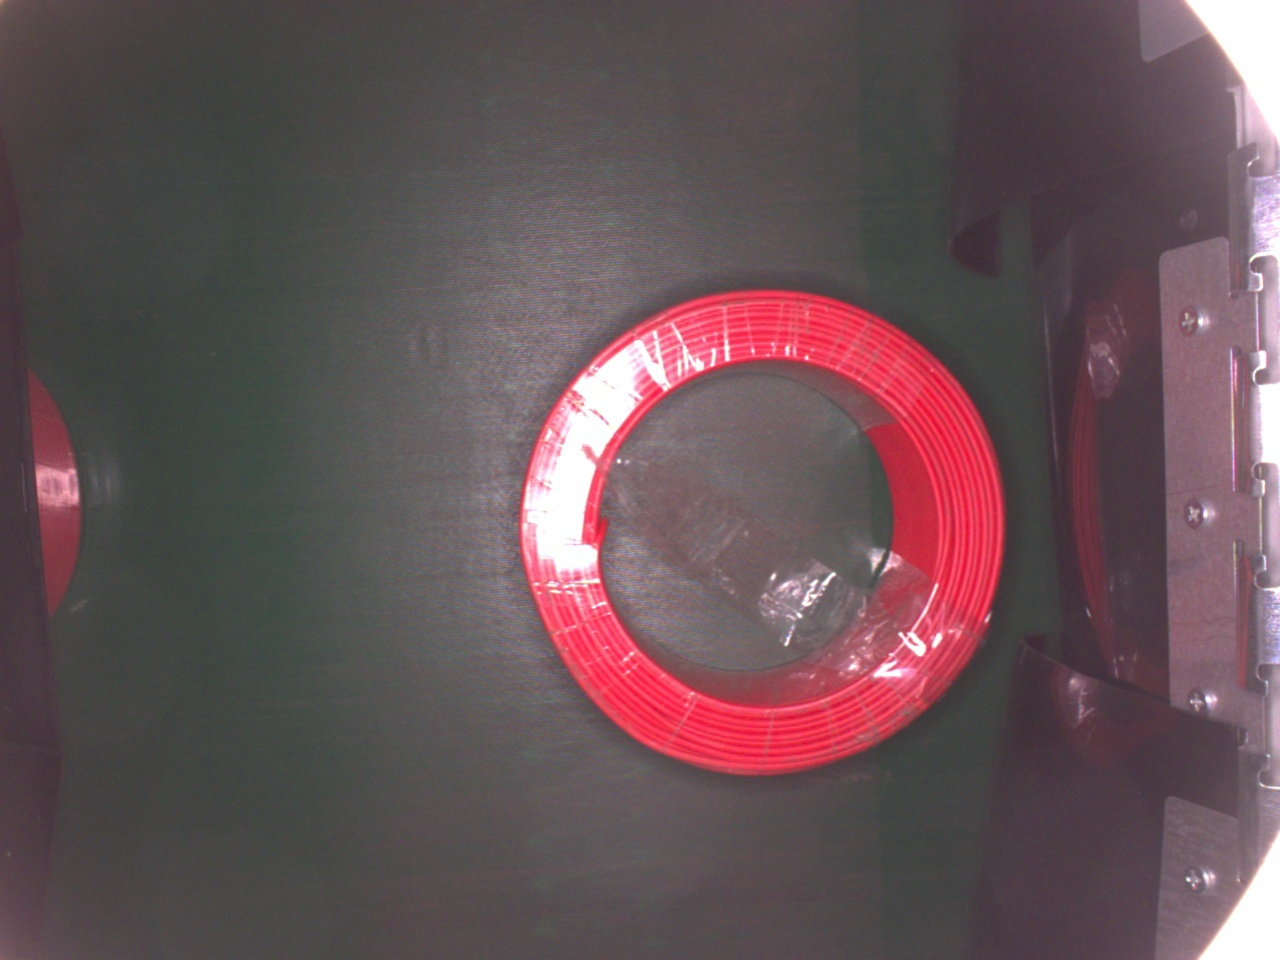red: (517, 284, 997, 785)
